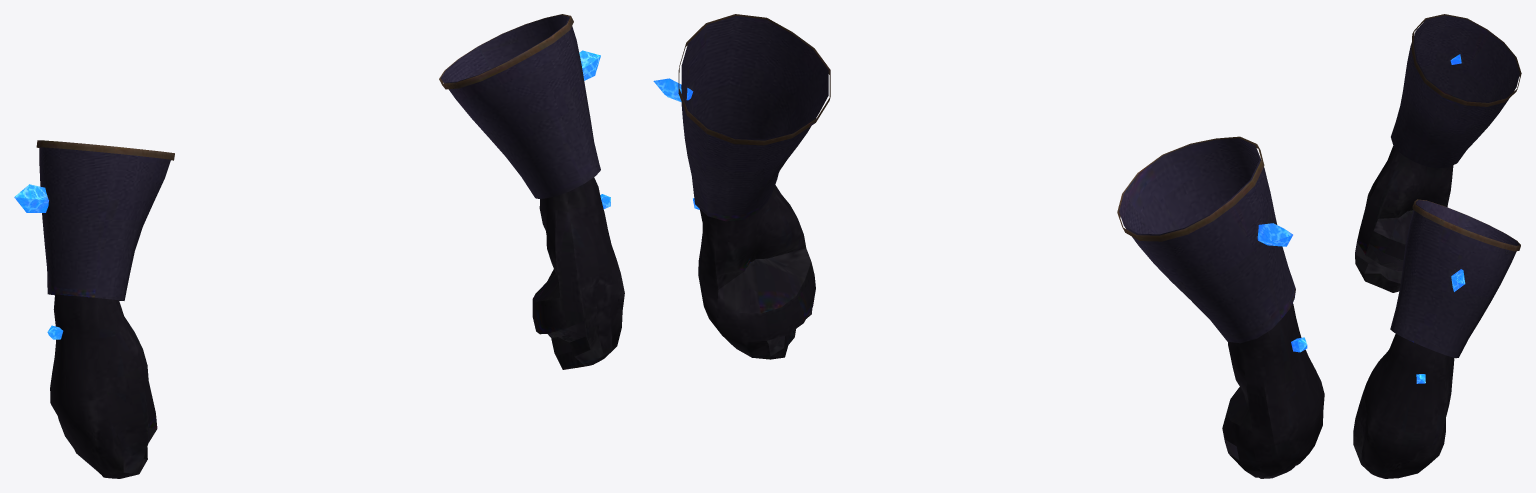
The model's file is Luvas_de_Tecido_nivel75.glb.
The picture shows the model from 3 angles, left to right: view 1: azimuth 30°, elevation 25°; view 2: azimuth 150°, elevation 25°; view 3: azimuth 270°, elevation 25°; orthographic projection. The views are drawn at different scales.
Parts seen in each view (by area): view 1: luvas_de_tecido_nivel75; view 2: luvas_de_tecido_nivel75; view 3: luvas_de_tecido_nivel75.
Boxes of the visible parts, x1,y1,x2,y2 form: luvas_de_tecido_nivel75: (14,14,624,478); luvas_de_tecido_nivel75: (653,14,1324,478); luvas_de_tecido_nivel75: (1353,14,1521,478).
Size of the model in its own units: 0.7037 by 0.3723 by 0.2088.
1 material, 1 textured.
